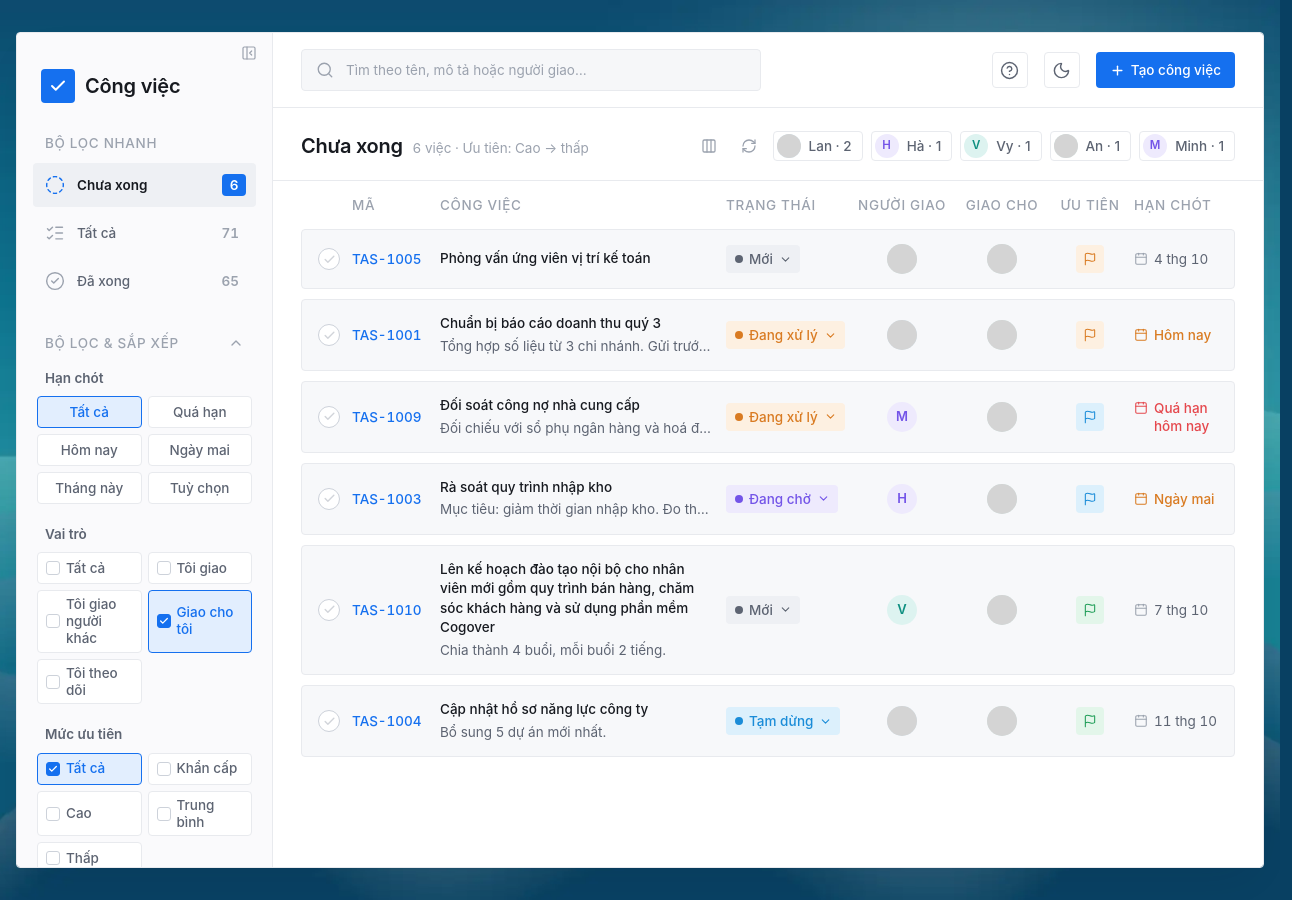
Scenario: Vai trò: multi-select roles (AC3, AC5) › ORs ticked roles, recounts done tasks on the server with only those roles
Click the checkbox with test id "role-filter-reporter": (200, 568) [148, 552, 252, 584]
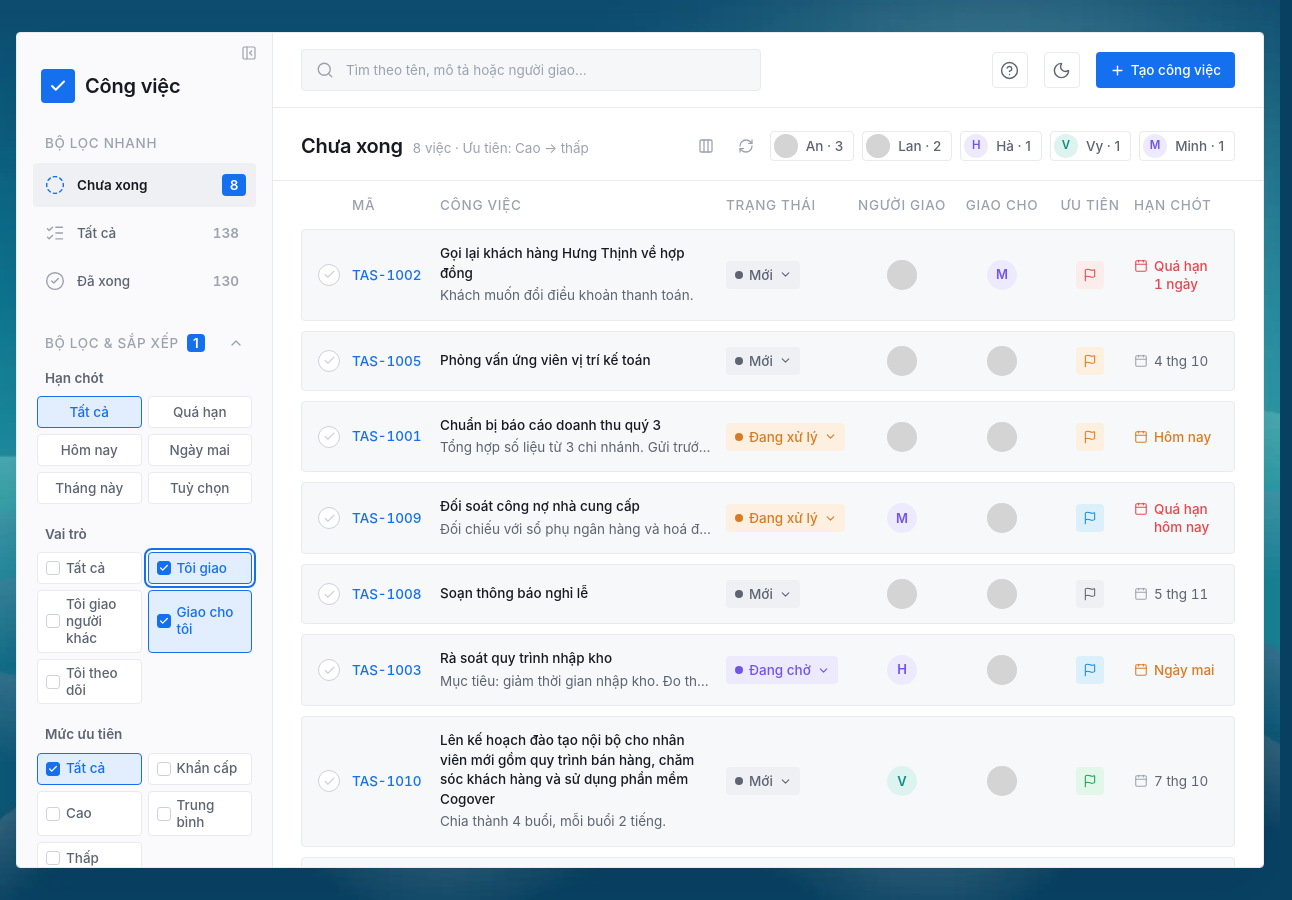
Expected: the text with test id "count-open" reads "8", [230, 177, 238, 193]
Expected: the text with test id "count-done" reads "130", [213, 273, 239, 289]
Expected: the text named "1 tuỳ chọn đang bật" is shown, [187, 334, 205, 352]
Click the checkbox with test id "role-filter-assignee": (200, 621) [148, 590, 252, 653]
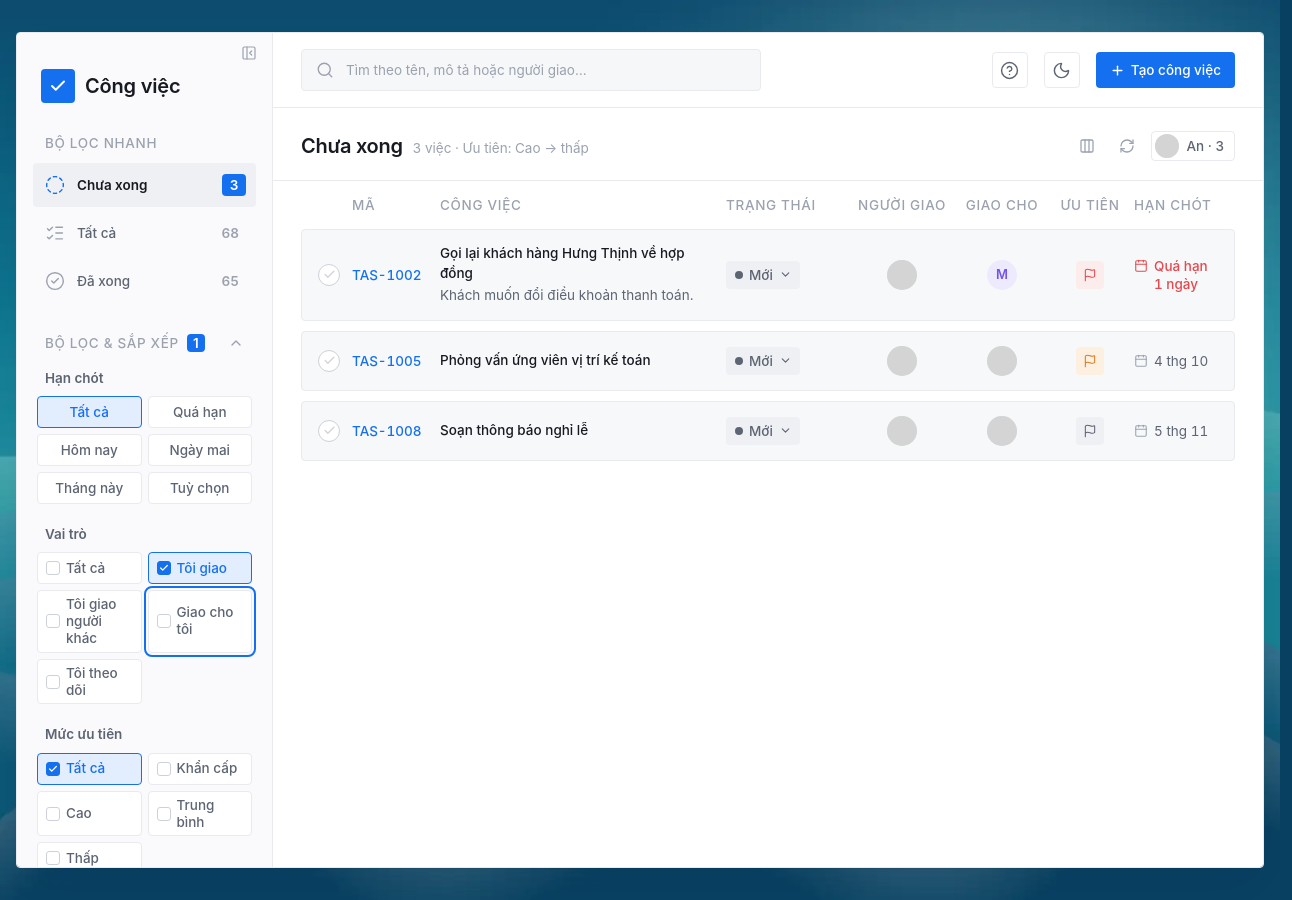
Expected: the text with test id "count-done" reads "65", [222, 273, 239, 289]
Click the checkbox with test id "role-filter-cc": (89, 682) [37, 659, 142, 704]
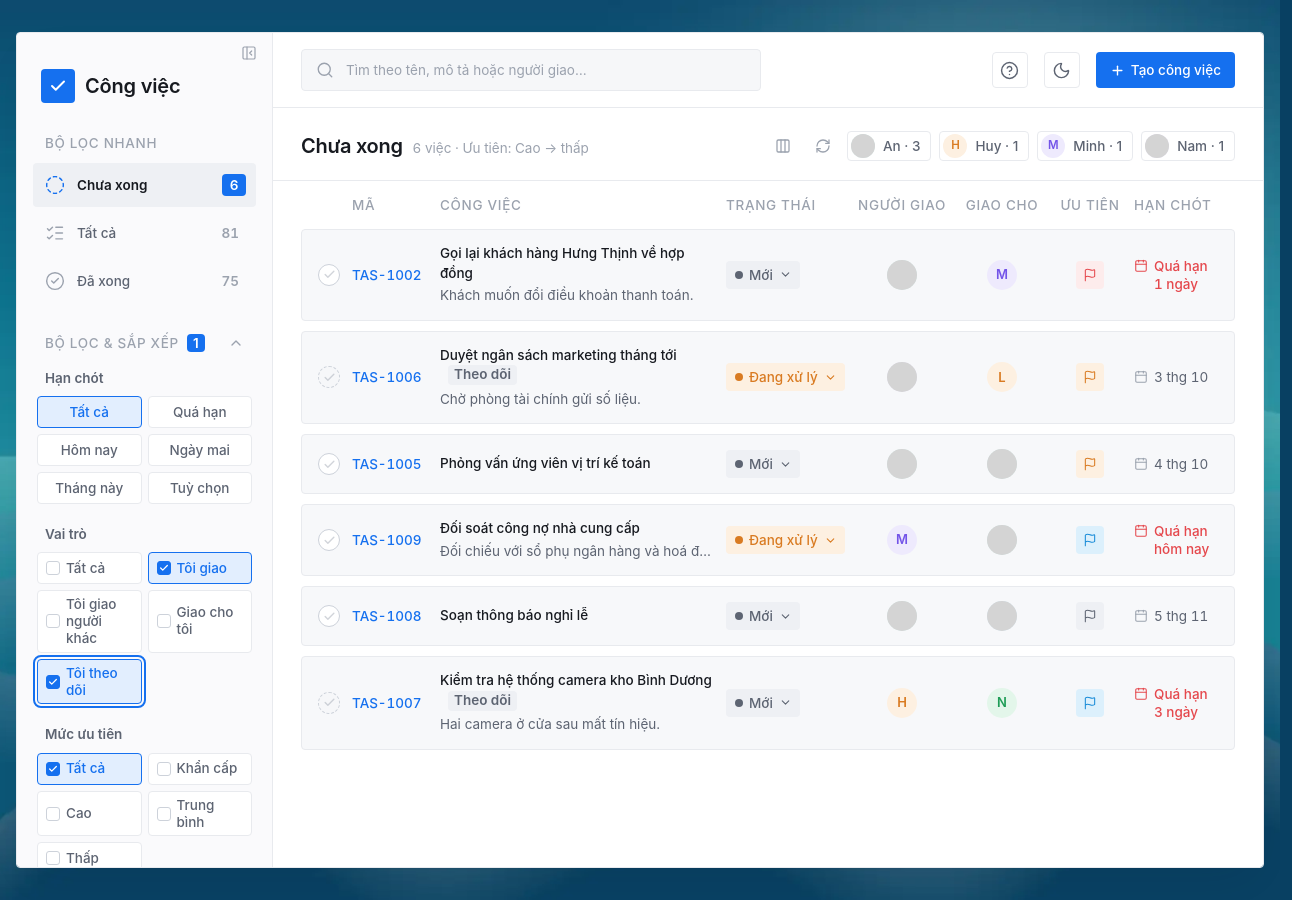
Expected: the text with test id "count-done" reads "75", [222, 273, 239, 289]
Expected: the text with test id "count-open" reads "6", [230, 177, 238, 193]
Expected: the text with test id "count-all" reads "81", [222, 225, 239, 241]
